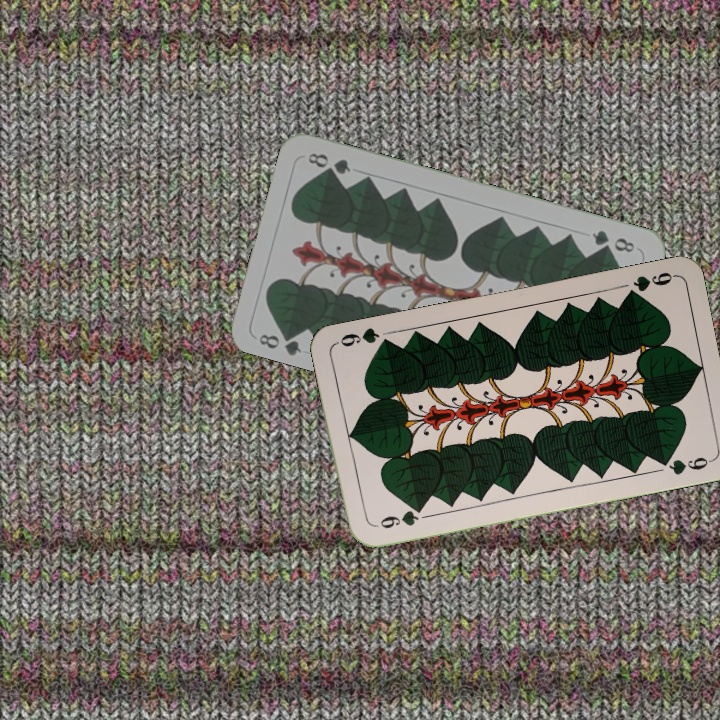G8: (255, 325, 304, 358), (588, 226, 637, 255)
G9: (621, 268, 677, 301), (370, 503, 426, 531)
